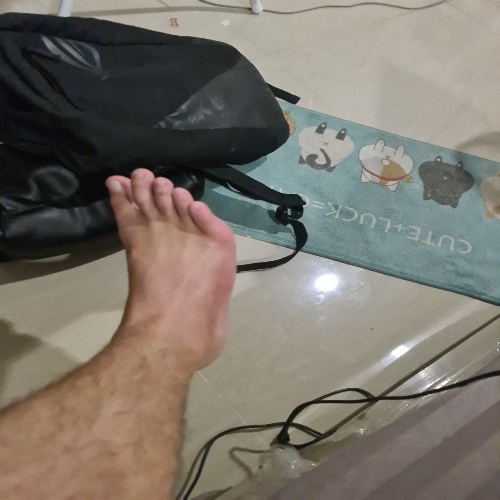3: (105, 174, 140, 220)
4: (199, 315, 227, 369)
Top_Foot: (107, 167, 237, 369)
